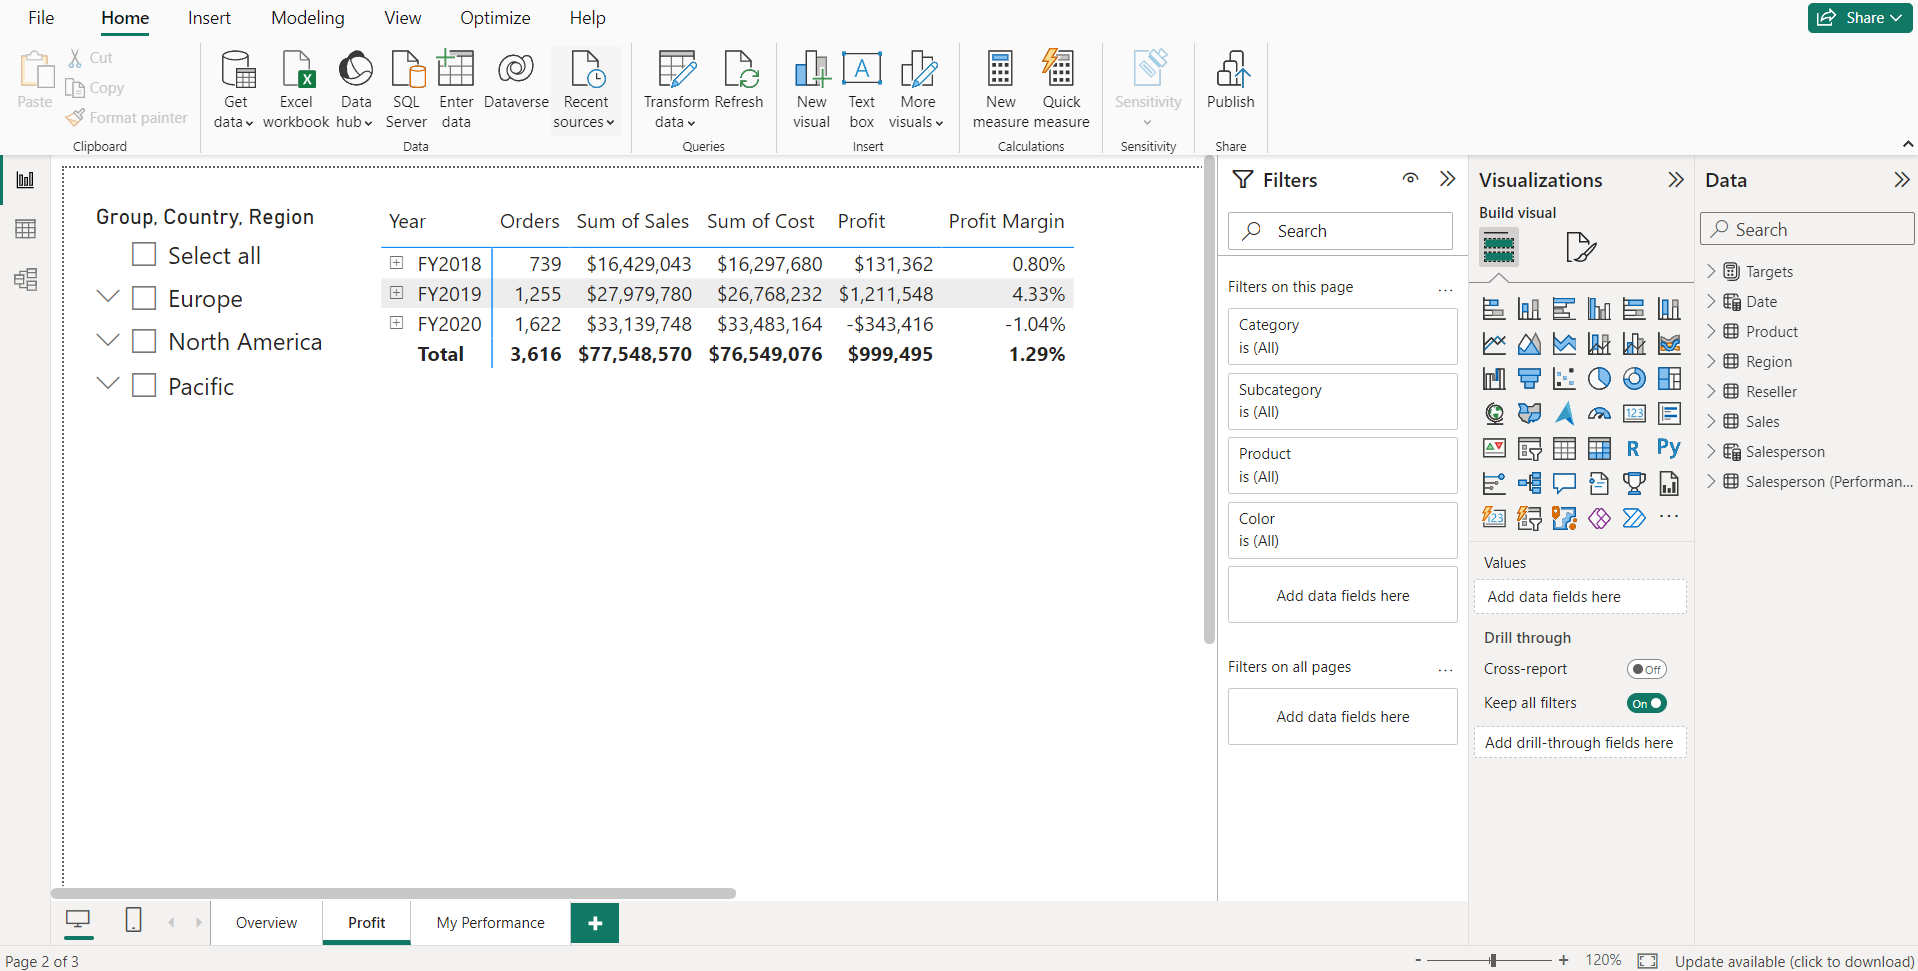

What the dashboard file says about the page in this screenshot:
{"tool":"powerbi","page":{"name":"Profit","canvas":[1280,720],"ordinal":1},"visuals":[{"type":"slicer","fields":{"Values":["Region.Regions.Group","Region.Regions.Country","Region.Regions.Region"]},"box":[8,19,199,324],"z":0},{"type":"pivotTable","fields":{"Rows":["Date.Fiscal.Year","Date.Fiscal.Quarter","Date.Fiscal.Month"],"Values":["Sales.Orders","Sum(Sales.Sales)","Sum(Sales.Cost)","Sales.Profit","Sales.Profit Margin"]},"box":[207,19,713,542],"z":1}]}

Visuals, with their boxes on the page's 1280x720 design canvas (x1, y1, x2, y2). These are canvas units, not pixel positions in the 1918x971 screenshot, which may show the page scaled, cropped or inside an application window:
slicer - Region.Regions.Group x Region.Regions.Country: locate(8, 19, 207, 343)
pivotTable - Date.Fiscal.Year x Date.Fiscal.Quarter: locate(207, 19, 920, 561)
